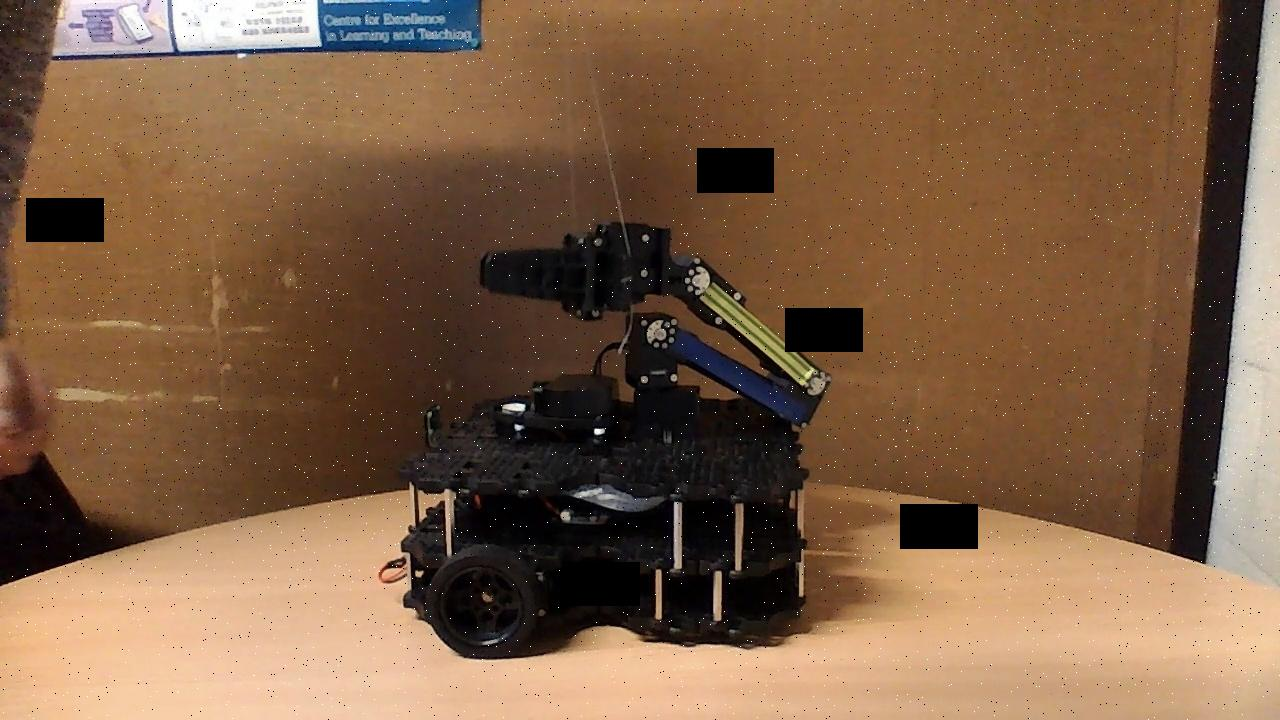Arm: (644, 317, 812, 430)
Hand: (478, 217, 677, 326)
Wrist: (679, 257, 831, 402)
base: (379, 369, 813, 664)
